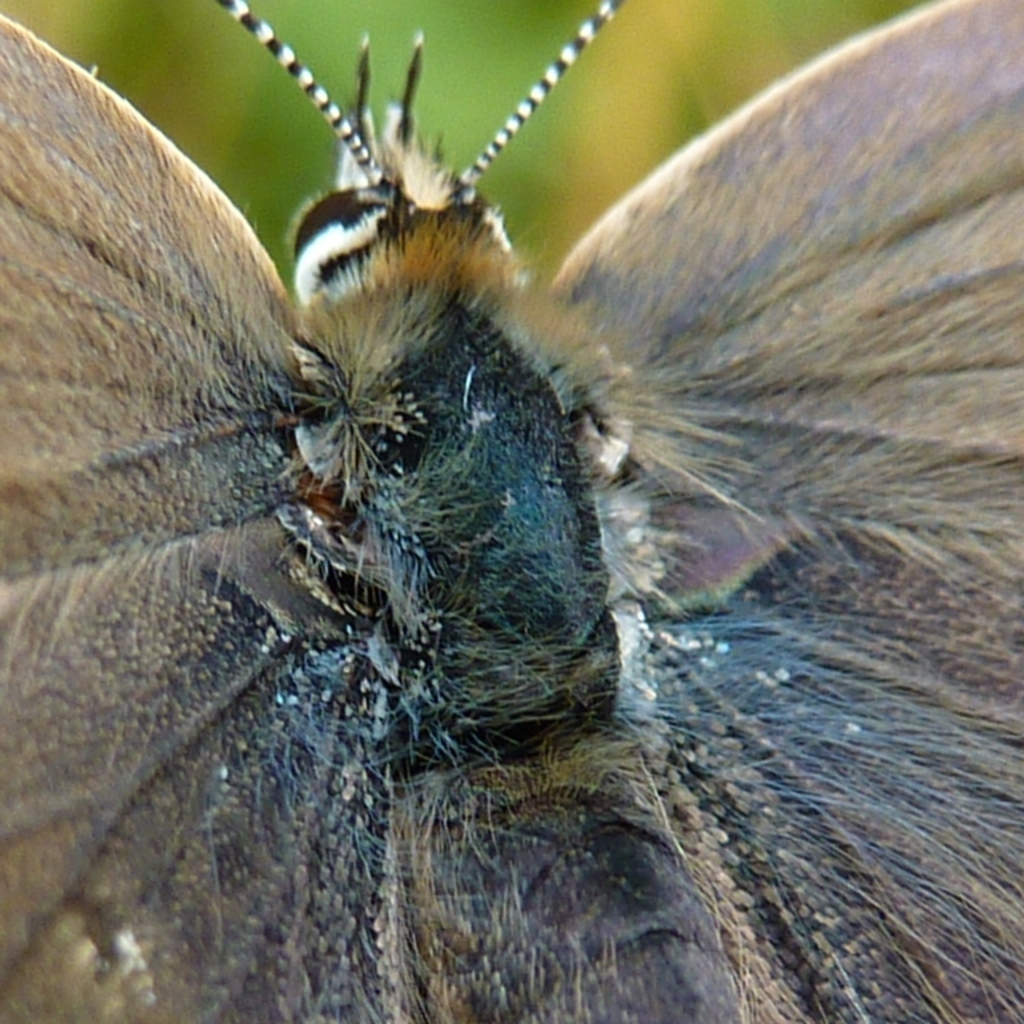Butterfly: (178, 4, 1024, 1024)
